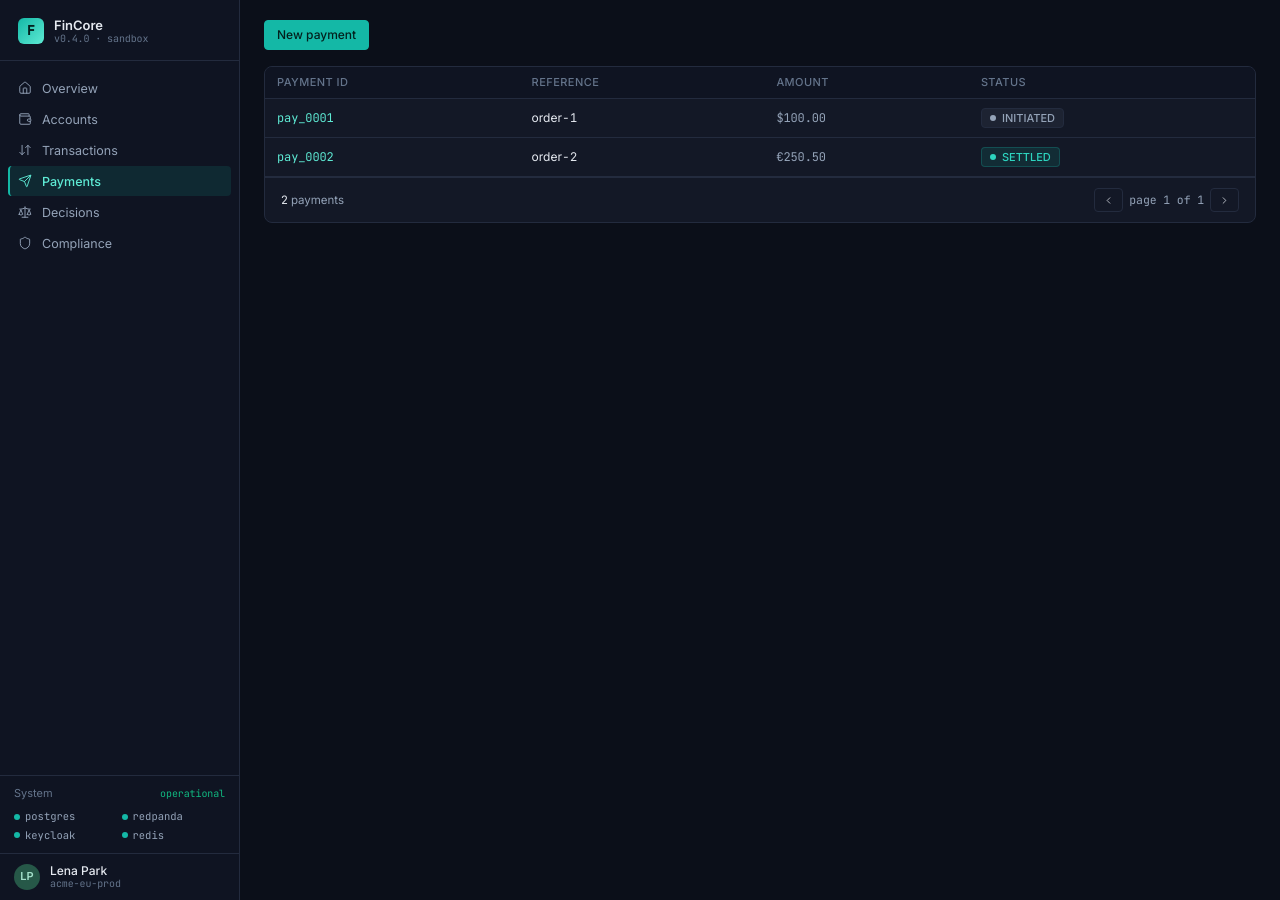
Test case: Payments › surfaces an error when initiation fails
This screenshot has width=1280, height=900.
Check: the text "order-1" is shown, box top-left (520, 99), bottom-right (764, 138)
Click the button "New payment": (317,35) top-left (264, 20), bottom-right (369, 50)
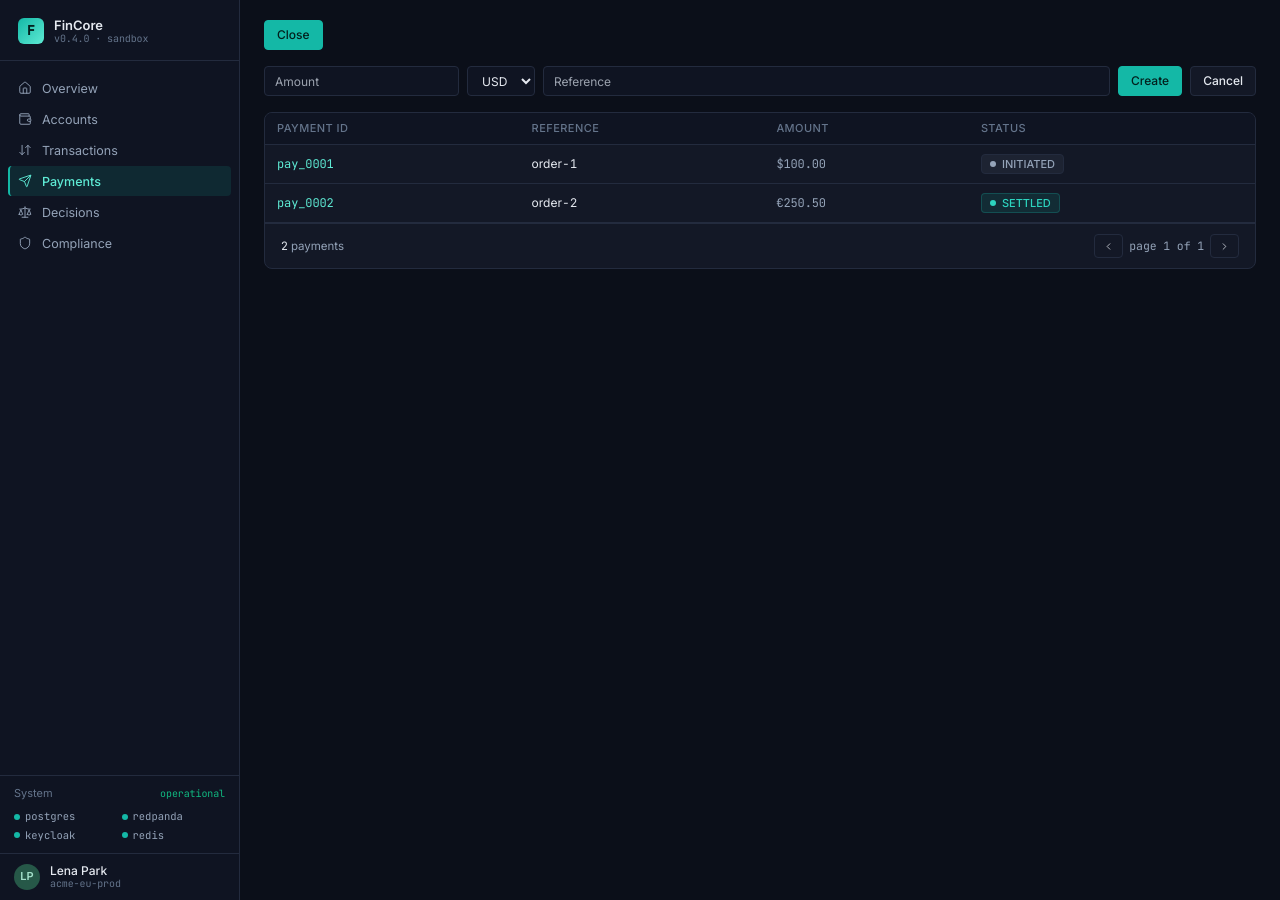
In the field labelled "Amount": (362,81) top-left (264, 66), bottom-right (459, 96), type "10"
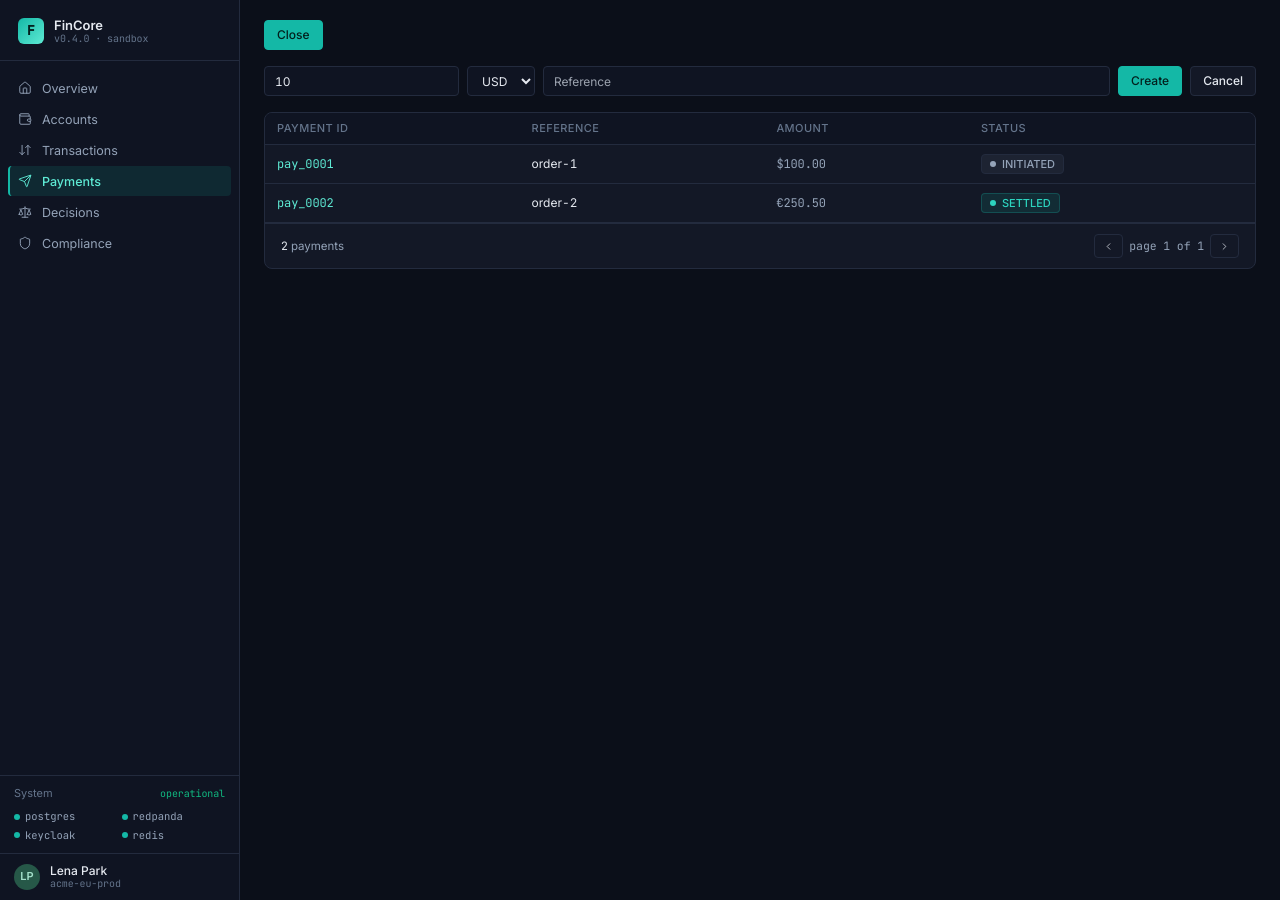
In the field labelled "Reference": (826,81) top-left (543, 66), bottom-right (1110, 96), type "order-9"
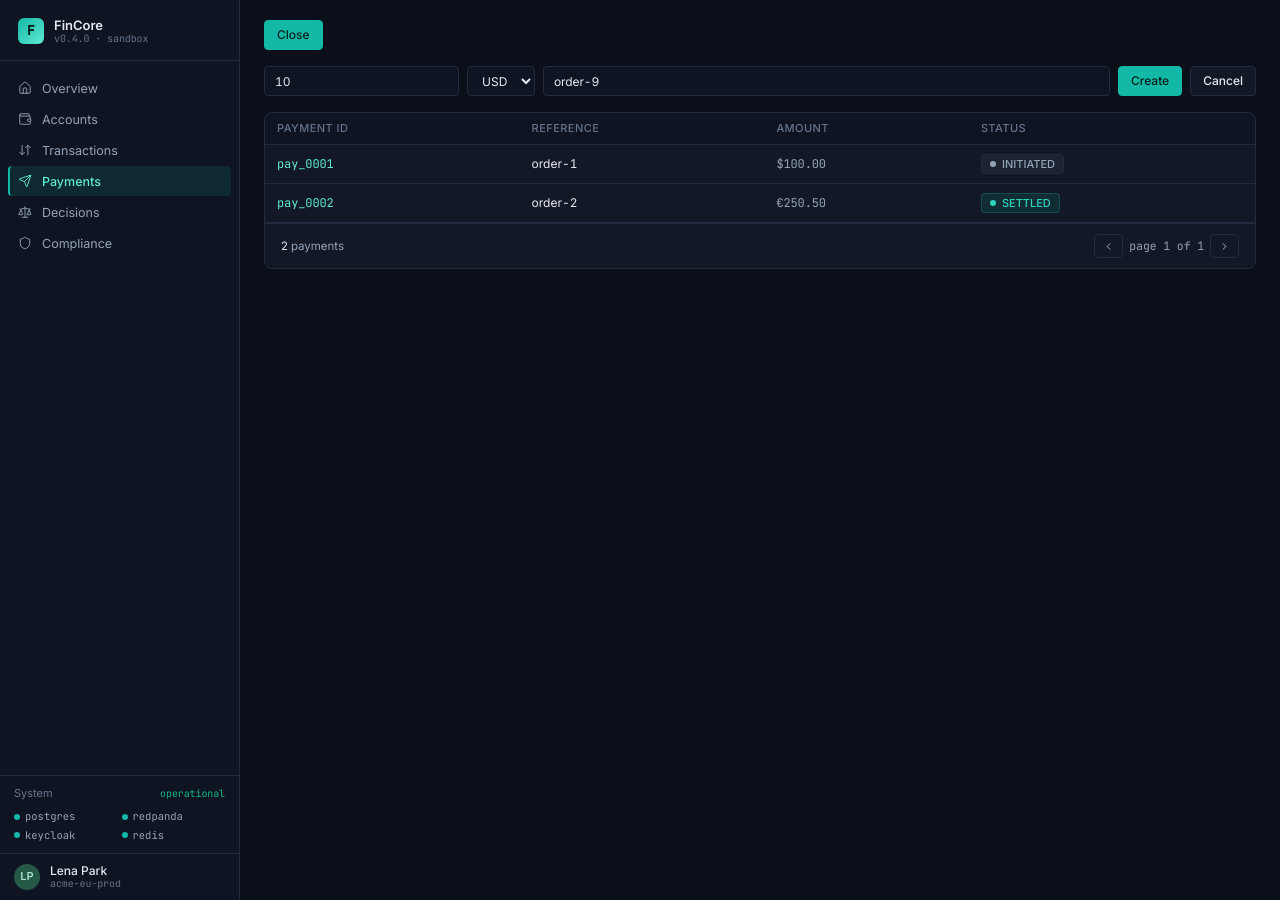
Click the button "Create": (1150,81) top-left (1118, 66), bottom-right (1182, 96)
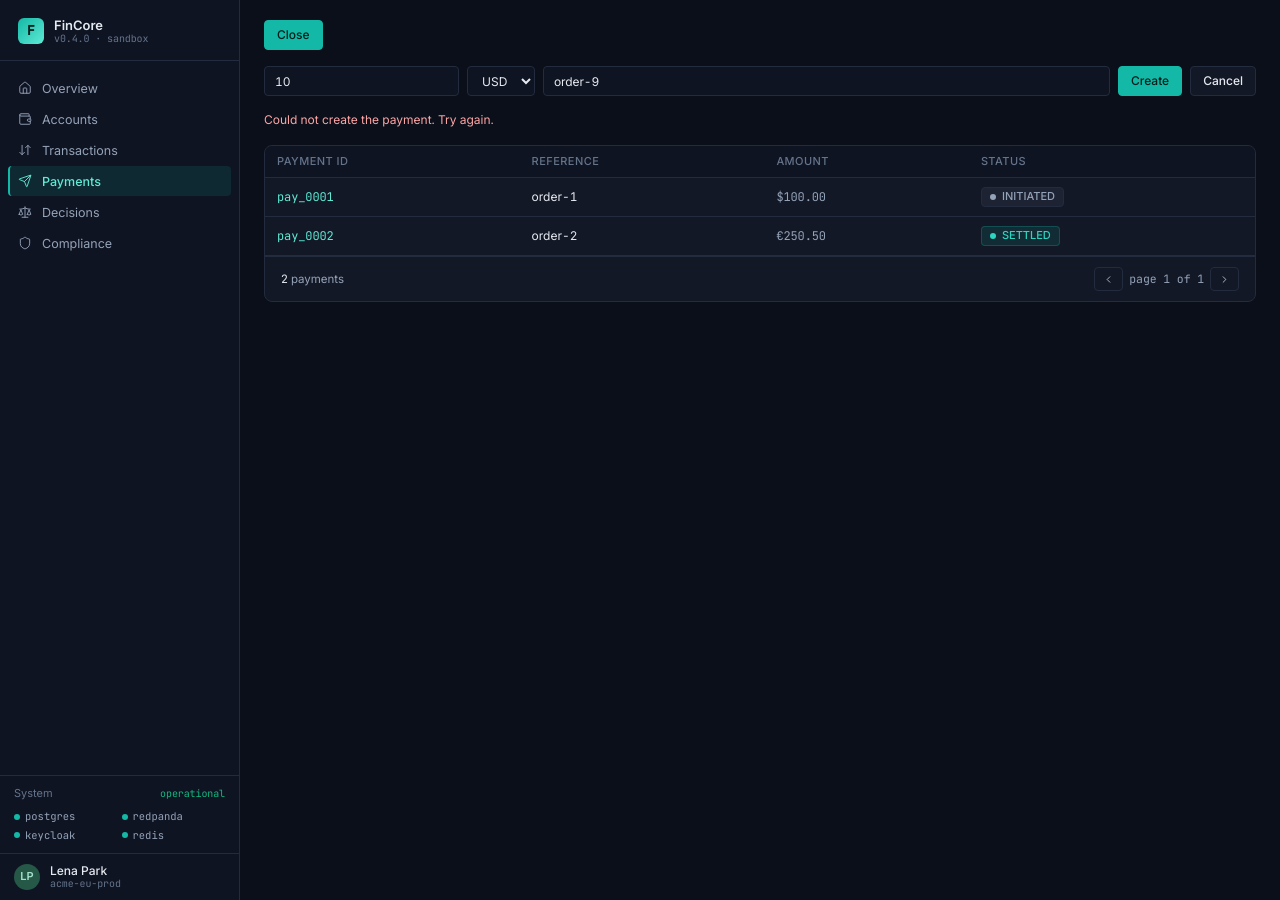
Check: the message shows "Could not create the payment", box top-left (264, 112), bottom-right (494, 127)
